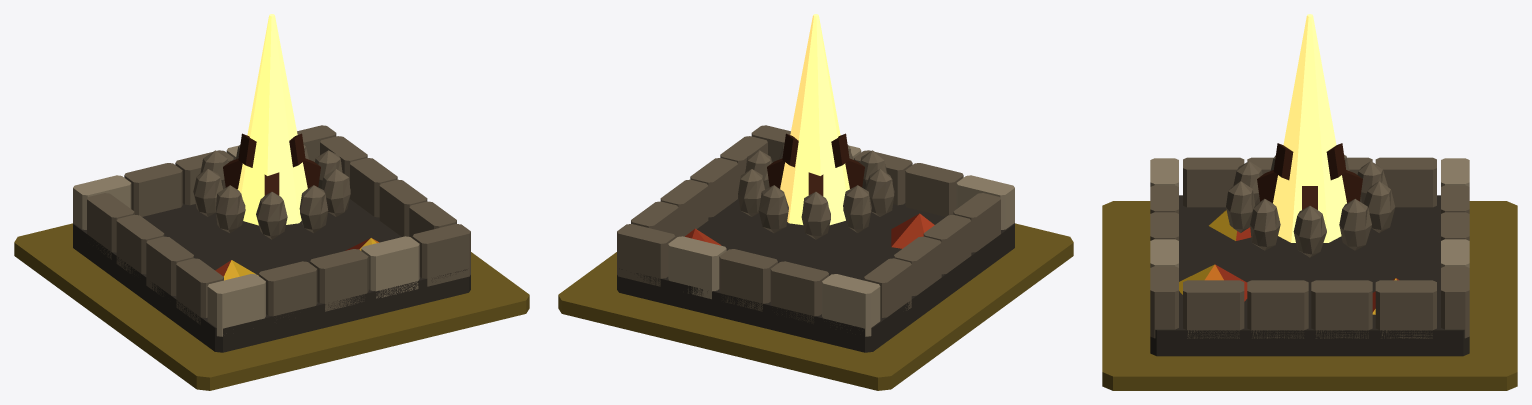
Rendered from watchfire_t2.glb.
3 views of the same model, side by side, from view 1: azimuth 30°, elevation 25°; view 2: azimuth 150°, elevation 25°; view 3: azimuth 270°, elevation 25° (orthographic). The views are drawn at different scales.
Visible parts, largest first — view 1: MMR | watchfire | T02 Architecture.001, MMR | watchfire | Tier 02 Ground.001, MMR | watchfire | T02 Flame Glow.001, MMR | watchfire | T02 Autumn Dressing.001; view 2: MMR | watchfire | T02 Architecture.001, MMR | watchfire | Tier 02 Ground.001, MMR | watchfire | T02 Flame Glow.001, MMR | watchfire | T02 Autumn Dressing.001; view 3: MMR | watchfire | T02 Architecture.001, MMR | watchfire | Tier 02 Ground.001, MMR | watchfire | T02 Flame Glow.001, MMR | watchfire | T02 Autumn Dressing.001.
Part boxes in pixels (<box>): MMR | watchfire | T02 Architecture.001: <box>73,125,470,352</box>; MMR | watchfire | Tier 02 Ground.001: <box>14,223,529,390</box>; MMR | watchfire | T02 Flame Glow.001: <box>237,14,307,225</box>; MMR | watchfire | T02 Autumn Dressing.001: <box>215,238,379,280</box>; MMR | watchfire | T02 Architecture.001: <box>617,125,1014,352</box>; MMR | watchfire | Tier 02 Ground.001: <box>558,223,1073,390</box>; MMR | watchfire | T02 Flame Glow.001: <box>780,14,849,225</box>; MMR | watchfire | T02 Autumn Dressing.001: <box>685,213,934,248</box>; MMR | watchfire | T02 Architecture.001: <box>1150,143,1469,356</box>; MMR | watchfire | Tier 02 Ground.001: <box>1102,201,1517,390</box>; MMR | watchfire | T02 Flame Glow.001: <box>1273,14,1346,242</box>; MMR | watchfire | T02 Autumn Dressing.001: <box>1179,210,1398,314</box>.
Size of the model in its own units: 1.3 by 0.995 by 1.3.
Materials: 2 (1 with a texture image).
